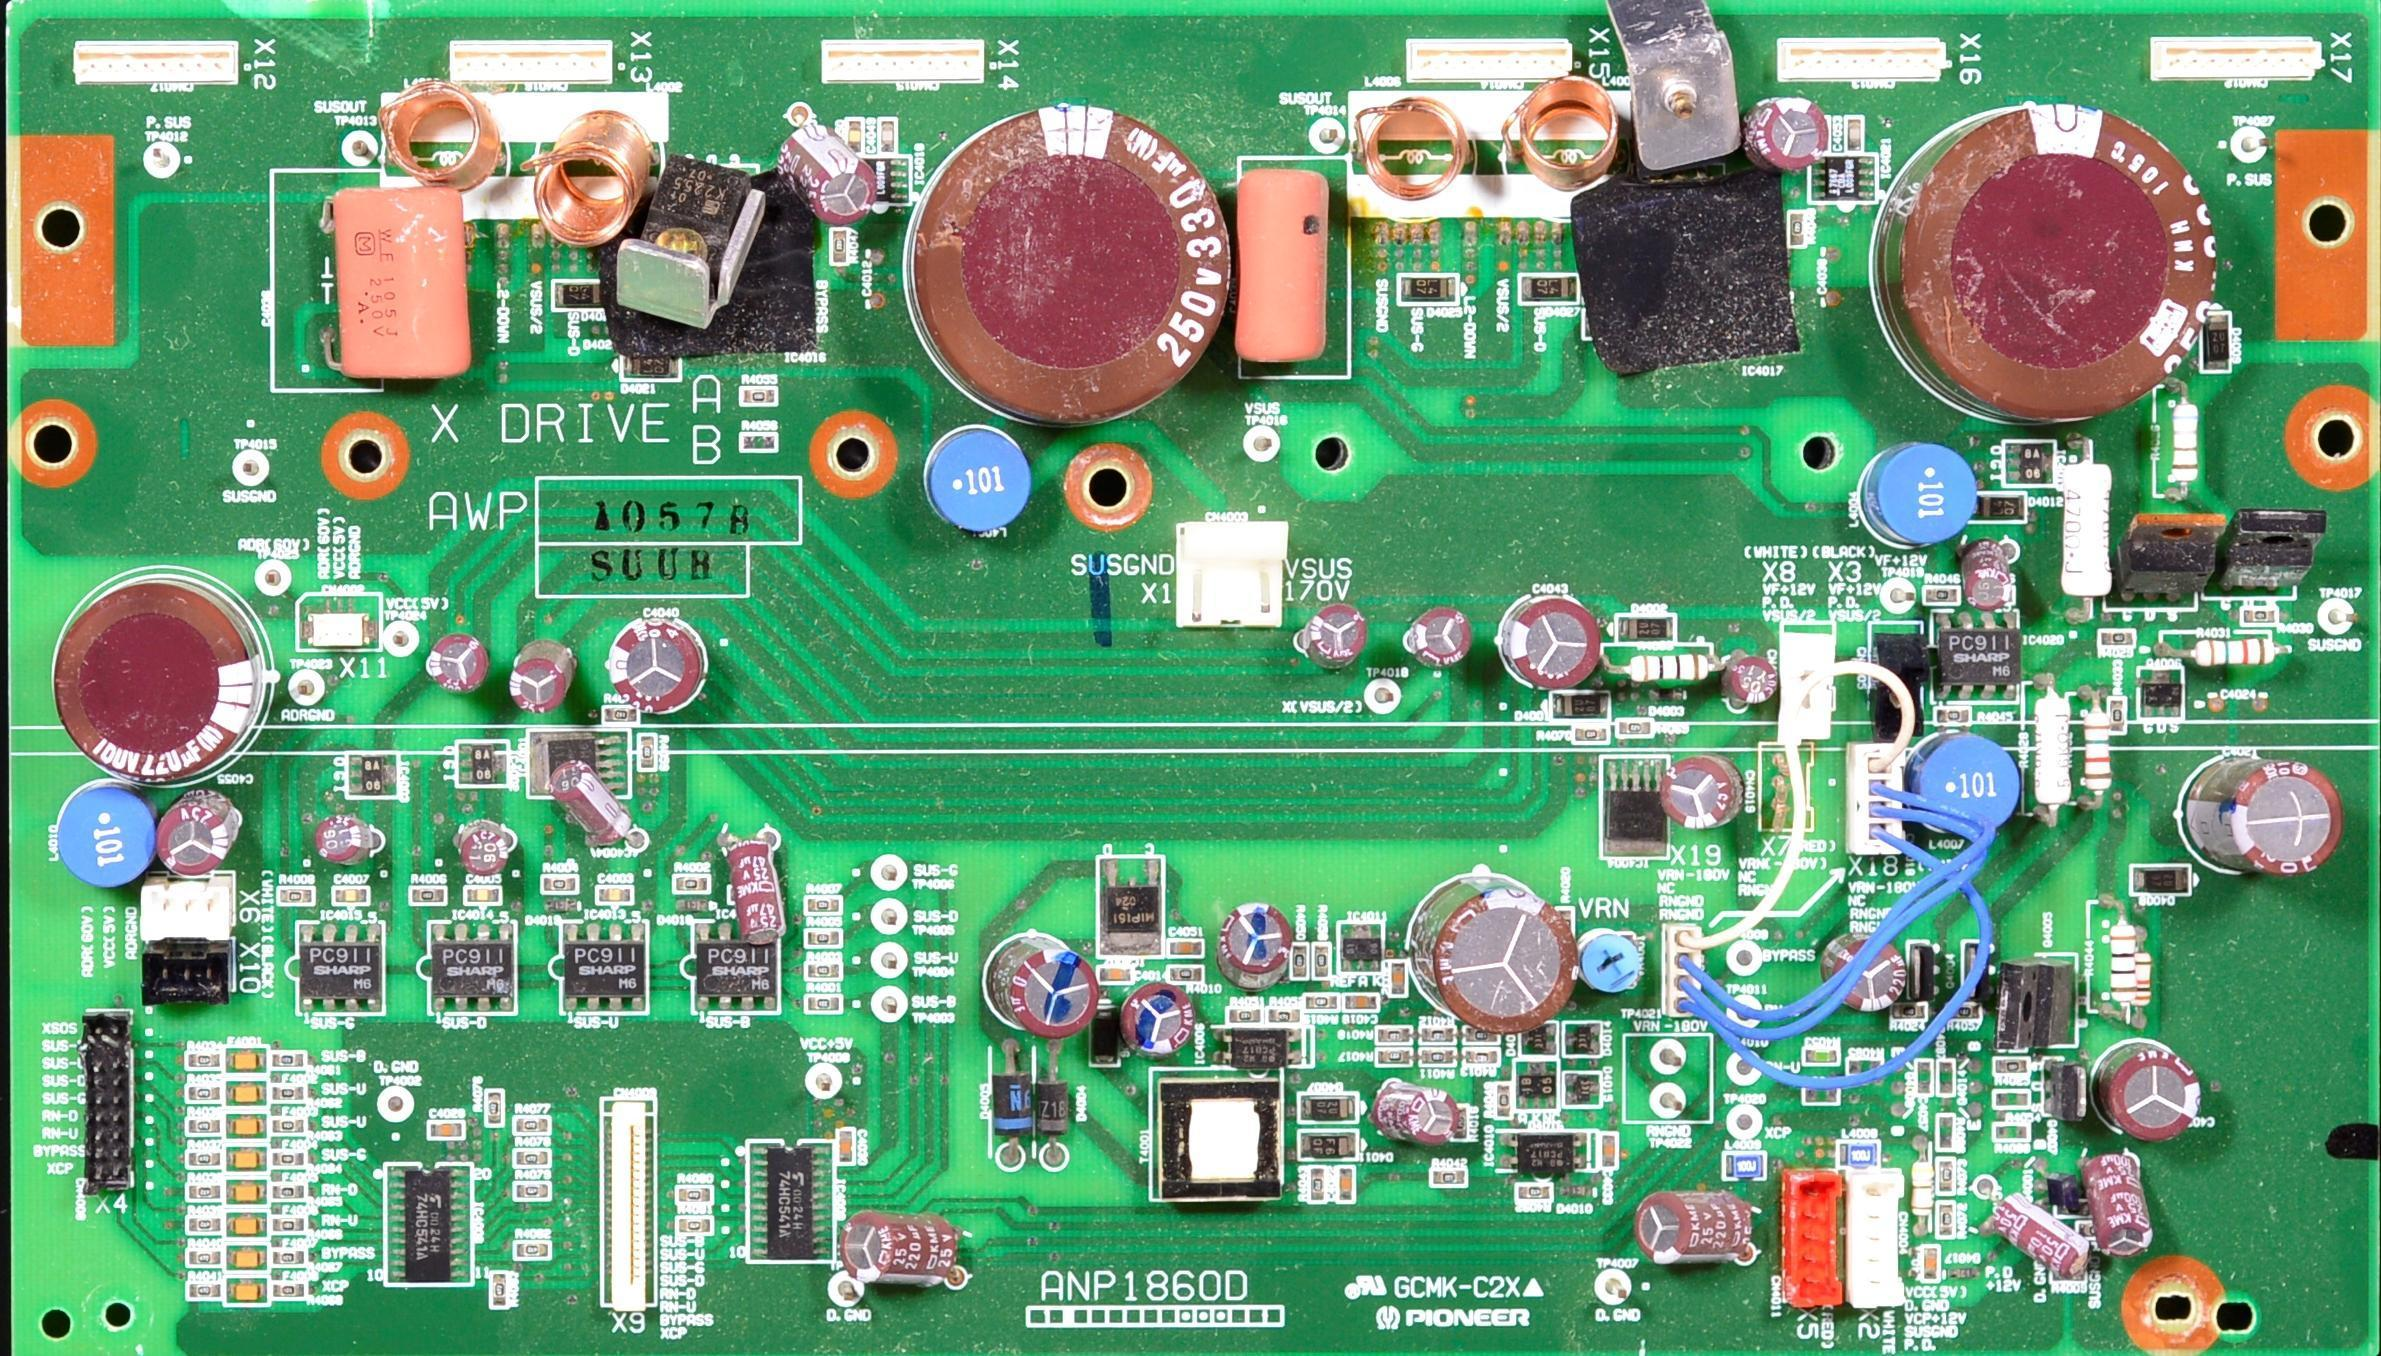Capacitor: (915, 103, 1236, 435), (1895, 108, 2196, 422), (49, 591, 270, 787), (308, 185, 459, 397), (1423, 888, 1577, 1024), (2202, 755, 2346, 879), (2092, 1042, 2198, 1138), (604, 618, 705, 709), (1503, 597, 1597, 692), (1995, 1196, 2100, 1279), (789, 128, 880, 217), (1639, 1190, 1751, 1263), (1002, 943, 1095, 1030), (845, 1215, 959, 1285), (160, 788, 239, 873), (2087, 1151, 2151, 1250), (723, 832, 782, 935), (555, 763, 630, 843), (1829, 936, 1906, 1008), (1662, 756, 1739, 828), (1748, 97, 1829, 165), (1372, 1078, 1455, 1144), (1220, 905, 1290, 980), (1117, 986, 1199, 1049), (509, 646, 578, 715), (1962, 541, 2024, 611), (1298, 610, 1367, 666), (1410, 606, 1471, 664), (315, 812, 382, 864), (428, 637, 488, 694), (450, 826, 507, 872), (1729, 656, 1783, 704), (1915, 1241, 1947, 1288), (1839, 113, 1873, 157), (227, 1272, 267, 1307), (224, 1113, 270, 1140), (1379, 956, 1410, 996), (225, 1240, 265, 1271), (227, 1077, 268, 1105), (223, 1210, 271, 1235), (1159, 933, 1206, 958), (225, 1177, 267, 1205), (222, 1045, 268, 1070), (835, 1125, 860, 1168), (228, 1146, 266, 1173), (1095, 965, 1140, 988), (1597, 1130, 1623, 1171), (594, 882, 636, 905), (468, 882, 502, 909), (425, 1116, 464, 1139), (843, 115, 869, 151), (1345, 991, 1379, 1015), (879, 117, 902, 154), (330, 885, 377, 902), (1338, 1166, 1354, 1199)
IC: (1568, 178, 1816, 369), (617, 192, 840, 368), (745, 1133, 838, 1269), (383, 1165, 475, 1280), (553, 916, 649, 1015), (424, 920, 516, 1013), (690, 917, 782, 1011), (1602, 751, 1674, 862), (519, 728, 634, 796), (290, 920, 378, 1009), (1098, 851, 1163, 950), (1494, 1132, 1601, 1183), (1807, 150, 1881, 208), (450, 736, 512, 786), (344, 756, 408, 800), (1998, 443, 2061, 485), (867, 157, 914, 200)
Resistor: (2093, 915, 2138, 1016), (2079, 700, 2119, 806), (2184, 632, 2287, 670), (1612, 651, 1712, 686), (2120, 936, 2157, 1015), (735, 380, 785, 411), (185, 1075, 229, 1107), (739, 426, 781, 456), (1464, 1043, 1509, 1071), (1369, 1022, 1417, 1047), (1934, 1155, 1964, 1196), (188, 1275, 226, 1305), (1288, 941, 1314, 984), (268, 1045, 309, 1073), (1612, 716, 1655, 742), (1307, 937, 1335, 977), (798, 892, 845, 914), (180, 1045, 224, 1069), (512, 1237, 553, 1262), (1513, 1182, 1559, 1206), (1417, 1042, 1461, 1066), (270, 1277, 313, 1302), (185, 1113, 224, 1139), (635, 731, 658, 775), (1884, 1001, 1932, 1023), (1930, 1200, 1957, 1237), (189, 1210, 225, 1239), (1489, 1081, 1513, 1123), (1307, 1166, 1329, 1209), (1787, 208, 1811, 250), (677, 1215, 716, 1240), (1374, 1047, 1418, 1068), (514, 1113, 555, 1135), (803, 988, 844, 1011), (184, 1245, 223, 1269), (2095, 631, 2137, 653), (183, 1177, 222, 1201), (273, 1211, 312, 1234), (480, 1090, 506, 1126), (272, 1243, 308, 1267), (487, 1273, 512, 1308), (273, 883, 311, 906), (269, 1085, 316, 1103), (830, 225, 850, 269), (672, 872, 715, 891), (408, 881, 449, 902), (1940, 1002, 1986, 1021), (185, 1147, 220, 1170), (275, 1141, 304, 1169), (1223, 1003, 1264, 1022), (1412, 1025, 1461, 1042), (273, 1180, 310, 1201), (1922, 587, 1965, 606), (1568, 726, 1612, 745), (1167, 965, 1211, 983), (677, 1182, 717, 1202), (1934, 703, 1974, 723), (805, 961, 844, 981), (1459, 1025, 1502, 1044), (540, 876, 582, 895), (2237, 610, 2283, 627), (1449, 1105, 1468, 1143), (1302, 992, 1342, 1010), (513, 1181, 555, 1199), (800, 928, 841, 946), (270, 1110, 304, 1132), (1270, 1002, 1302, 1025), (514, 1145, 550, 1164), (1993, 1058, 2036, 1075), (1429, 1166, 1466, 1184)
